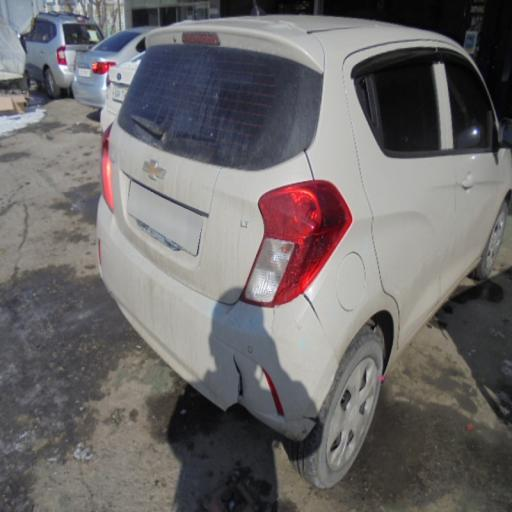broken: (209, 314, 351, 466)
scratch: (131, 60, 266, 218)
